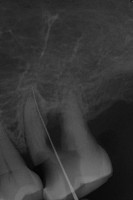Endo-Periodontal Lesion: (46, 109, 62, 149)
